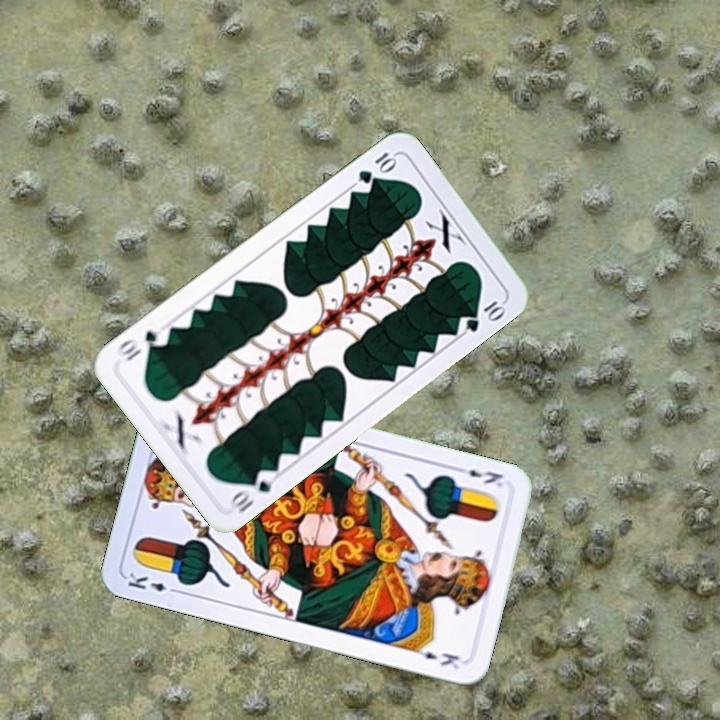EK: (123, 568, 182, 596), (452, 463, 506, 490)
G10: (224, 465, 275, 516), (354, 148, 399, 187)
